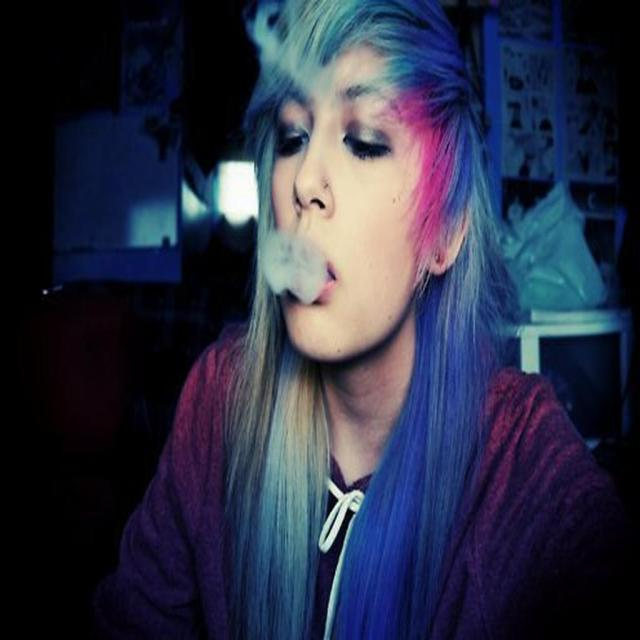smoking: (251, 207, 350, 340)
